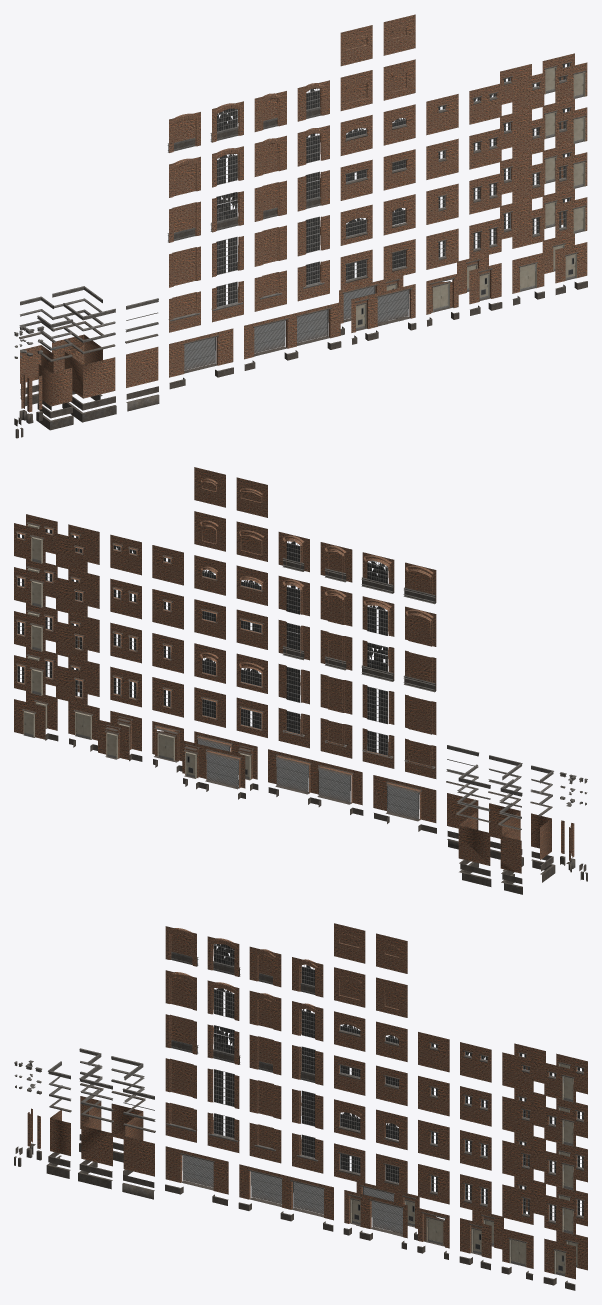
The model's file is modular_factory_facade.glb.
3 views of the same model, one above another, from view 1: azimuth 30°, elevation 25°; view 2: azimuth 150°, elevation 25°; view 3: azimuth 330°, elevation 25° (orthographic).
Parts seen in each view (by area): view 1: wall_standard_standard_01, window_centered_medium_03, dado_standard_corner_large_01, cornice02_standard_standard_01, door_recessed_large_01; view 2: wall_standard_standard_01, window_centered_medium_03, dado_standard_corner_large_01, cornice02_standard_standard_01, door_recessed_large_01; view 3: wall_standard_standard_01, window_centered_medium_03, dado_standard_corner_large_01, cornice02_standard_standard_01, door_recessed_large_01.
Part boxes in pixels (x1,y1,x2,y2): wall_standard_standard_01: (20, 14, 587, 412); window_centered_medium_03: (19, 61, 586, 361); dado_standard_corner_large_01: (14, 281, 587, 426); cornice02_standard_standard_01: (14, 107, 324, 438); door_recessed_large_01: (356, 67, 585, 329); wall_standard_standard_01: (14, 467, 574, 873); window_centered_medium_03: (16, 522, 552, 830); dado_standard_corner_large_01: (34, 718, 586, 883); cornice02_standard_standard_01: (282, 558, 587, 894); door_recessed_large_01: (23, 524, 251, 779); wall_standard_standard_01: (27, 923, 587, 1279); window_centered_medium_03: (49, 944, 584, 1252); dado_standard_corner_large_01: (15, 1134, 575, 1290); cornice02_standard_standard_01: (14, 951, 318, 1199); door_recessed_large_01: (350, 1063, 577, 1276).
Bounding box in the file's own units: 53.33 × 29 × 5.36.
Materials: 6 (6 with a texture image).
